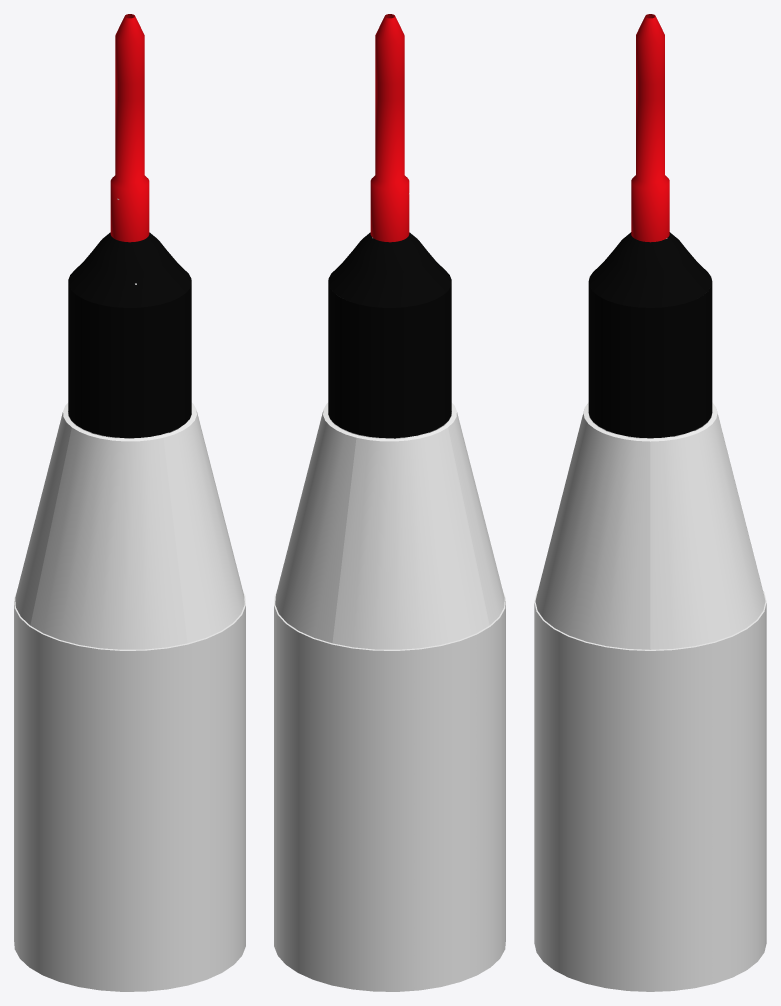
File: Top.fbx
3 views of the same model, side by side, from view 1: azimuth 30°, elevation 25°; view 2: azimuth 150°, elevation 25°; view 3: azimuth 270°, elevation 25° (orthographic).
Visible parts, largest first — view 1: abort.001; view 2: abort.001; view 3: abort.001.
Boxes of the visible parts, bbox=[...] form: abort.001: bbox=[14, 14, 245, 991]; abort.001: bbox=[274, 14, 505, 991]; abort.001: bbox=[534, 14, 766, 991].
Size of the model in its own units: 24.93 by 110 by 24.93.
Materials: 1 (1 with a texture image).
